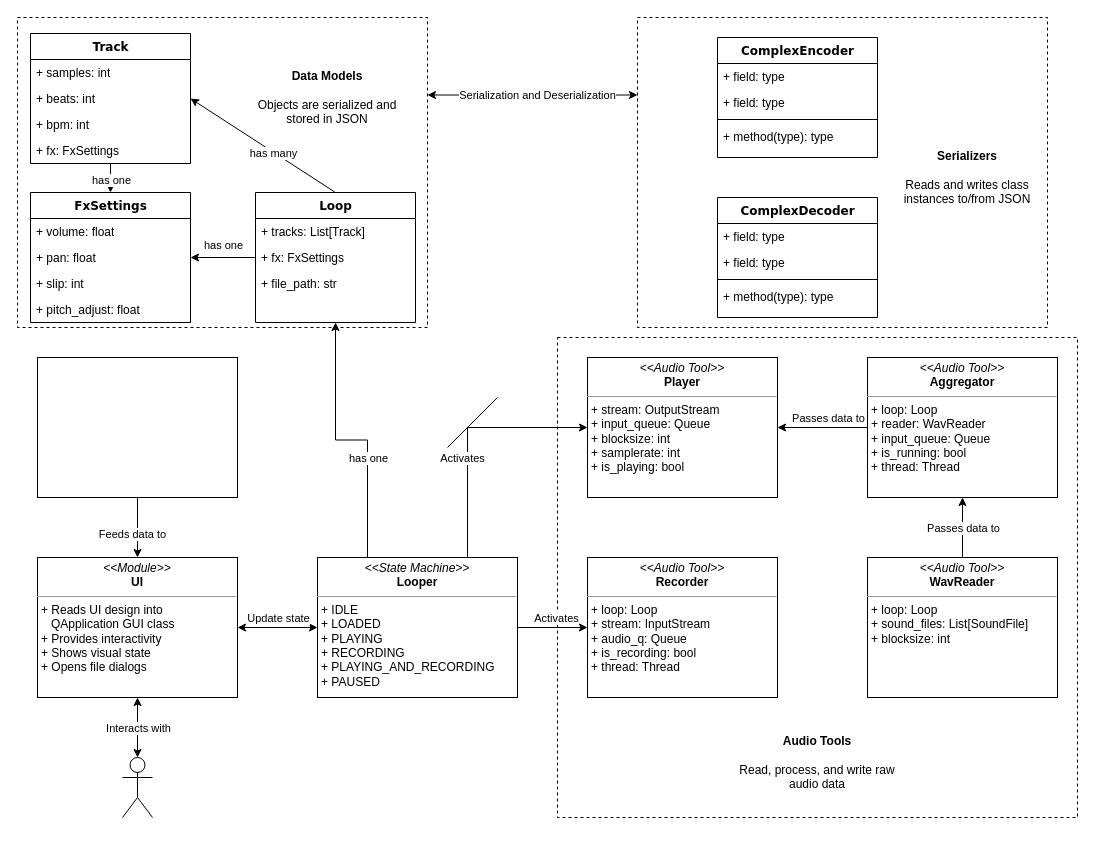
Some shapes in this 1095 by 856 pixel diagram are drawn without their labels. Here are the shapes that lost their labels. From the top down, the centre of each, then its label:
(x=137, y=427): <<Design File>> looper.ui XML generated from team design using Qt Designer
(x=137, y=787): User
